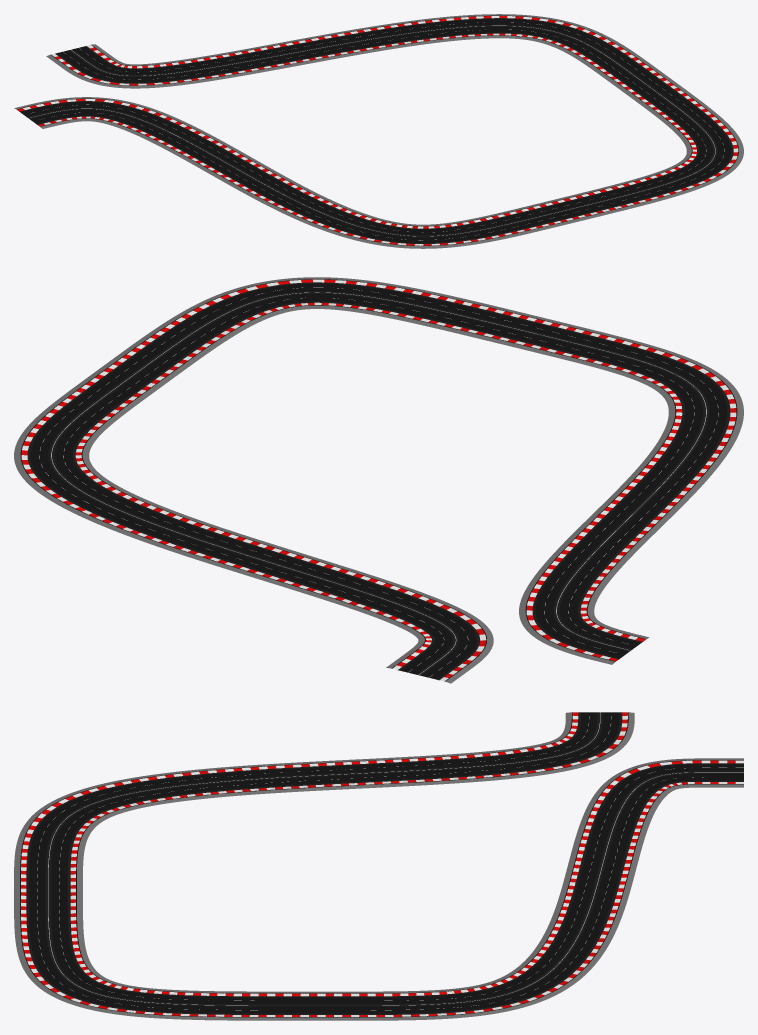
File: S0.2l3-chikB.glb
3 views of the same model, one above another, from view 1: azimuth 30°, elevation 25°; view 2: azimuth 150°, elevation 25°; view 3: azimuth 270°, elevation 25° (orthographic). The views are drawn at different scales.
Visible parts, largest first — view 1: Grid.001; view 2: Grid.001; view 3: Grid.001.
Part boxes in pixels (bbox=[...]): Grid.001: bbox=[14, 14, 743, 248]; Grid.001: bbox=[14, 277, 743, 683]; Grid.001: bbox=[14, 712, 743, 1020].
Size of the model in its own units: 264 by 0.31 by 265.
